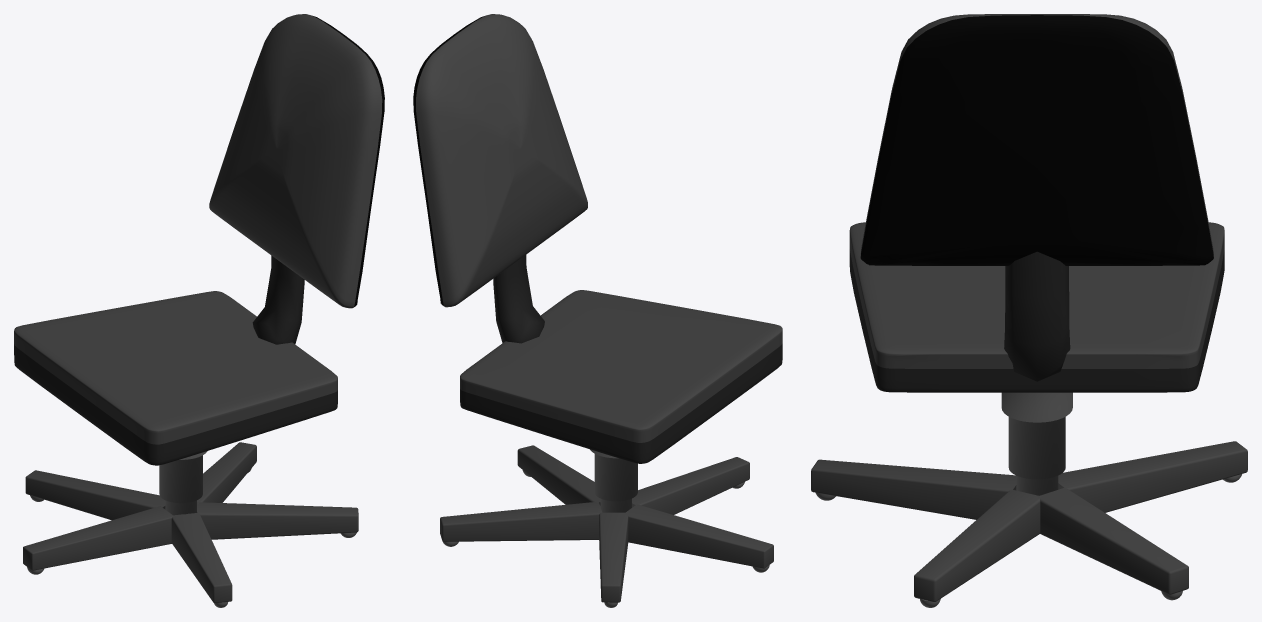
The model's file is SillaTerminada.fbx.
3 renders of one model, left to right at view 1: azimuth 30°, elevation 25°; view 2: azimuth 150°, elevation 25°; view 3: azimuth 270°, elevation 25°, orthographic. The views are drawn at different scales.
Visible parts, largest first — view 1: Respaldo + Asiento, Tubo + Patas, Respaldo + Asiento.001; view 2: Respaldo + Asiento, Tubo + Patas, Respaldo + Asiento.001; view 3: Respaldo + Asiento, Tubo + Patas, Respaldo + Asiento.001.
Part boxes in pixels (bbox=[...]): Respaldo + Asiento: bbox=[14, 14, 384, 465]; Tubo + Patas: bbox=[23, 442, 358, 607]; Respaldo + Asiento.001: bbox=[252, 255, 304, 344]; Respaldo + Asiento: bbox=[413, 14, 782, 463]; Tubo + Patas: bbox=[440, 445, 773, 607]; Respaldo + Asiento.001: bbox=[493, 255, 544, 343]; Respaldo + Asiento: bbox=[849, 14, 1224, 392]; Tubo + Patas: bbox=[811, 392, 1247, 607]; Respaldo + Asiento.001: bbox=[1004, 251, 1070, 381].
Size of the model in its own units: 62.56 by 87.51 by 56.58.
2 materials, 1 textured.
